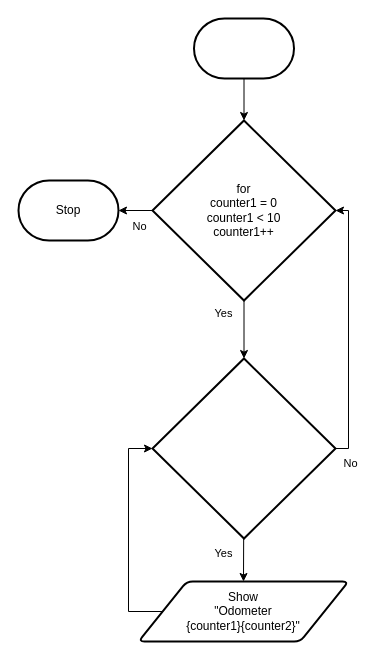
Some shapes in this 387 by 659 pixel diagram are drawn without their labels. Each missing label, with the box of its shape:
for counter2 = 0 counter2 < 10 counter2++: (151, 357, 336, 539)
Start: (192, 17, 294, 79)
